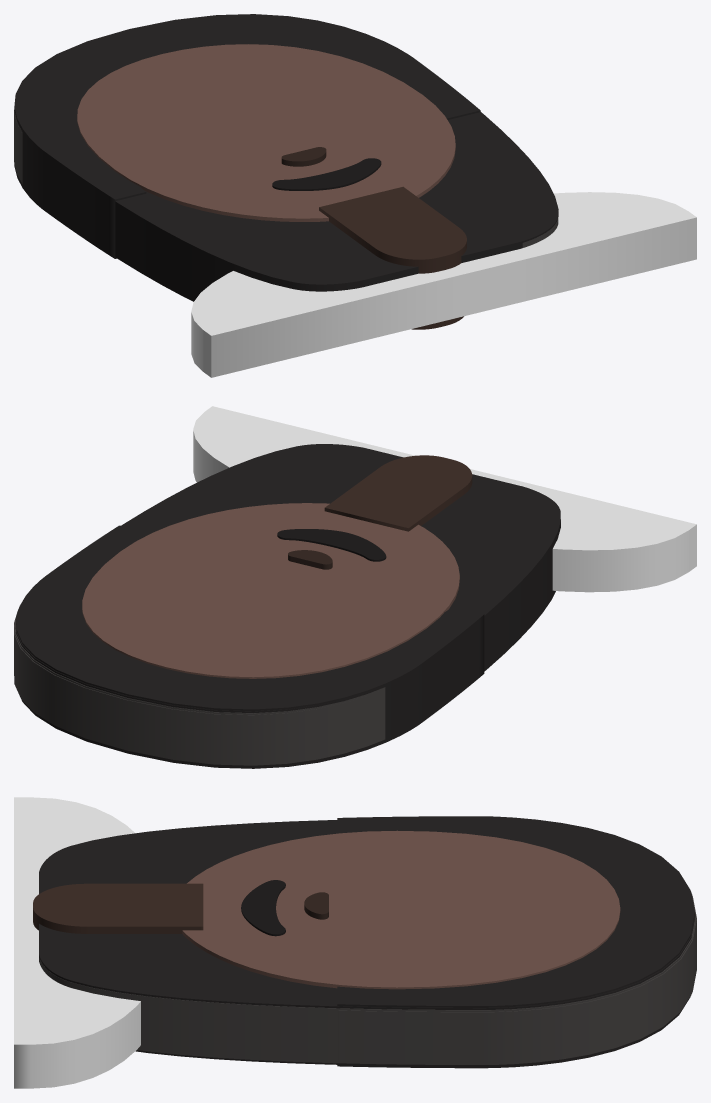
File: emoji_u1f469_1f3ff_200d_2695.glb
3 renders of one model, top to bottom at view 1: azimuth 30°, elevation 25°; view 2: azimuth 150°, elevation 25°; view 3: azimuth 270°, elevation 25°, orthographic. The views are drawn at different scales.
Parts seen in each view (by area): view 1: emoji_u1f469_1f3ff_200d_2695; view 2: emoji_u1f469_1f3ff_200d_2695; view 3: emoji_u1f469_1f3ff_200d_2695.
Boxes of the visible parts, x1=… form: emoji_u1f469_1f3ff_200d_2695: x1=14, y1=14, x2=696, y2=377; emoji_u1f469_1f3ff_200d_2695: x1=14, y1=406, x2=696, y2=768; emoji_u1f469_1f3ff_200d_2695: x1=14, y1=797, x2=696, y2=1088.
Bounding box in the file's own units: 0.029 × 0.0042 × 0.0339.
